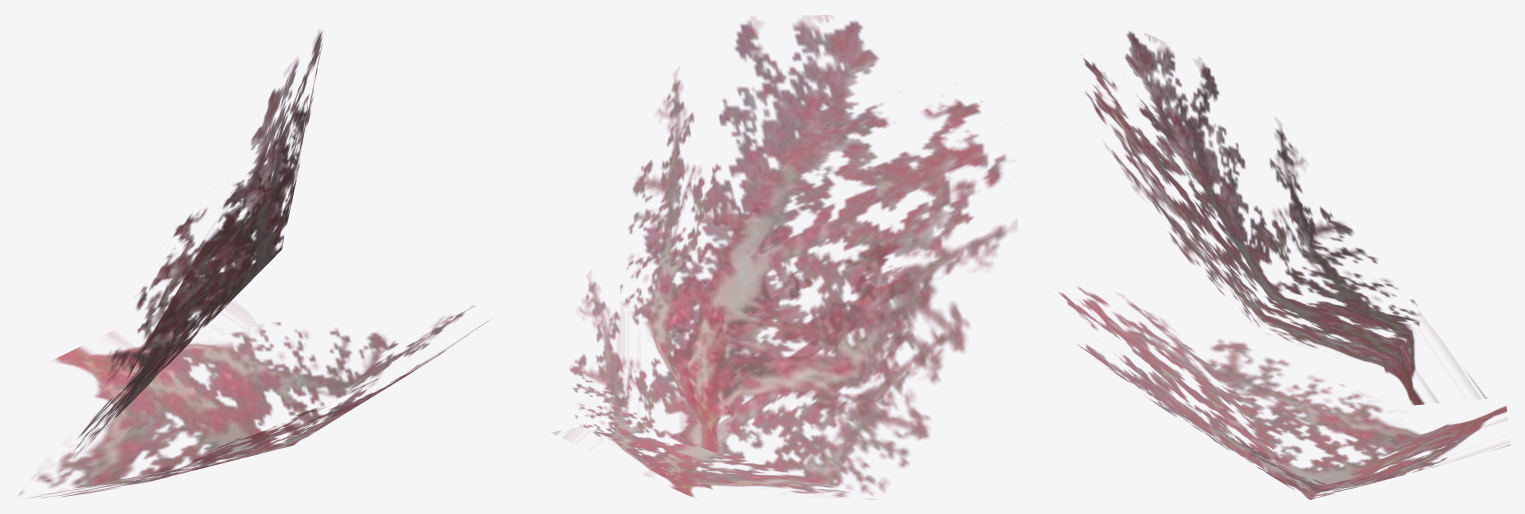
3 views of the same model, side by side, from view 1: azimuth 30°, elevation 25°; view 2: azimuth 150°, elevation 25°; view 3: azimuth 270°, elevation 25° (orthographic). The views are drawn at different scales.
Visible parts, largest first — view 1: model_Object07; view 2: model_Object07; view 3: model_Object07.
Boxes of the visible parts, box(x1,y1,x2,y2) form: model_Object07: box(18, 29, 490, 497); model_Object07: box(552, 15, 1017, 499); model_Object07: box(1058, 31, 1510, 499).
Bounding box in the file's own units: 1.44 × 1.39 × 1.35.
1 material, 1 textured.
